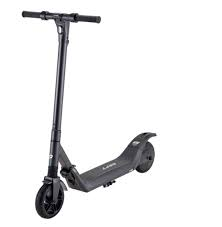kick_board: (21, 11, 156, 218)
kick_handler: (22, 11, 101, 28)
kick_neck: (51, 31, 68, 162)
kick_wheel: (36, 179, 65, 218), (135, 141, 154, 173)
